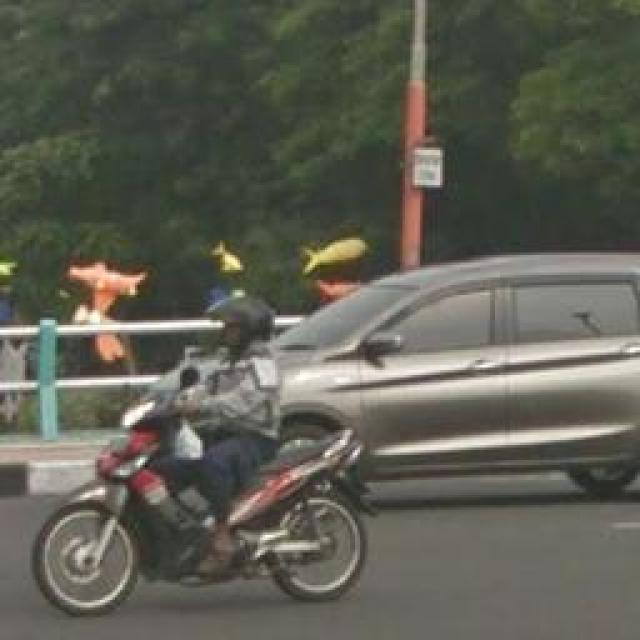car: (190, 240, 640, 520)
motorbike: (37, 285, 378, 622)
